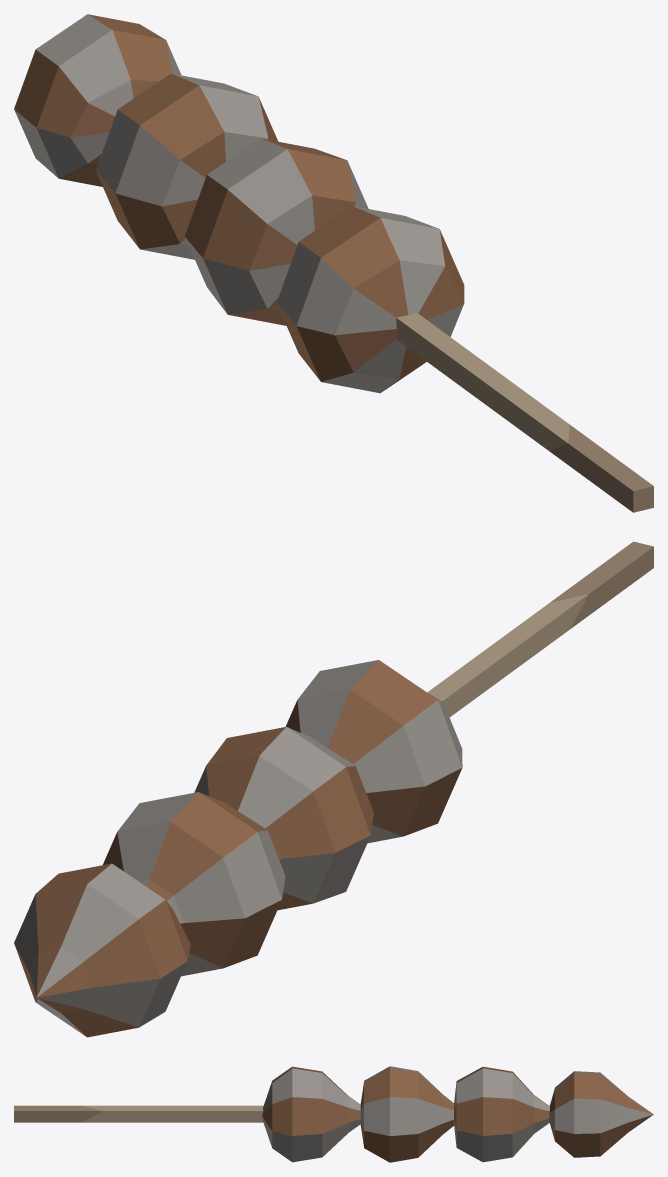
Rendered from SM_Prop_Food_Sticks_05.fbx.
3 views of the same model, one above another, from view 1: azimuth 30°, elevation 25°; view 2: azimuth 150°, elevation 25°; view 3: azimuth 270°, elevation 25° (orthographic). The views are drawn at different scales.
Parts seen in each view (by area): view 1: SM_Prop_Food_Sticks_05; view 2: SM_Prop_Food_Sticks_05; view 3: SM_Prop_Food_Sticks_05.
Boxes of the visible parts, x1,y1,x2,y2 form: SM_Prop_Food_Sticks_05: (14, 14, 653, 512); SM_Prop_Food_Sticks_05: (14, 541, 653, 1037); SM_Prop_Food_Sticks_05: (14, 1066, 653, 1162).
Bounding box in the file's own units: 9.3 × 9.3 × 57.85.
